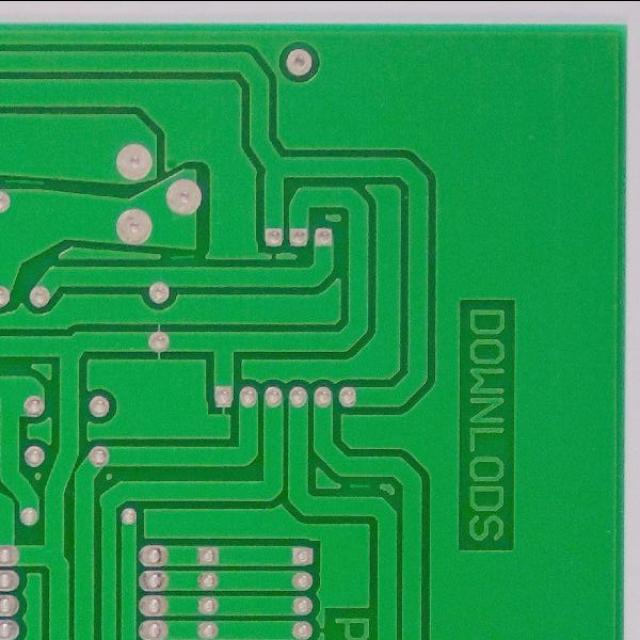spurious_copper: (2, 172, 45, 190), (162, 248, 199, 264), (343, 478, 372, 491)
